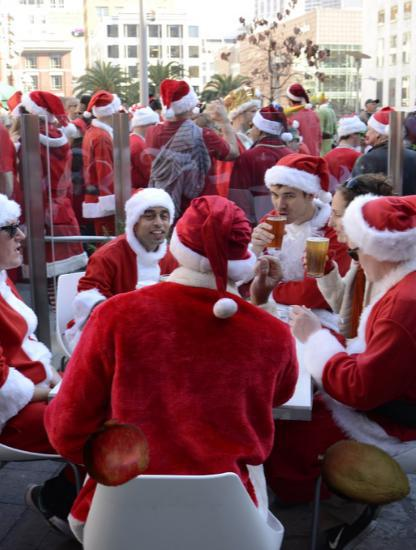Papaya: (316, 425, 413, 522)
Pomegranate: (80, 418, 150, 488)
